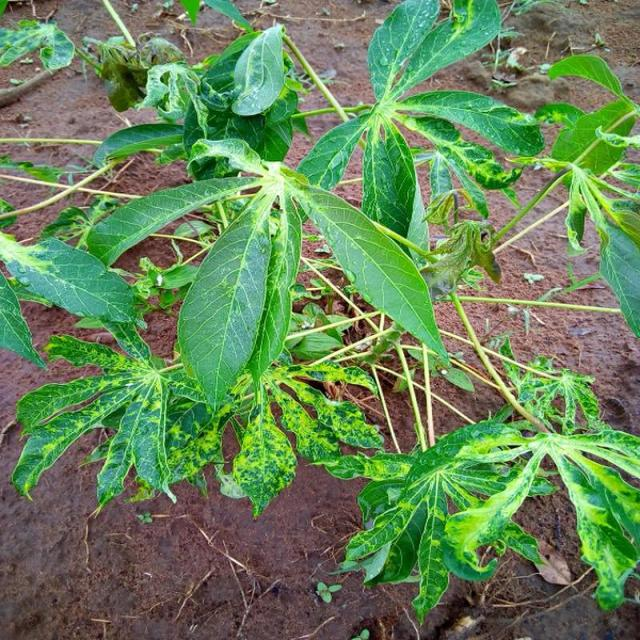cassava leaf: (294, 178, 452, 369), (177, 193, 275, 412), (232, 22, 286, 118)
